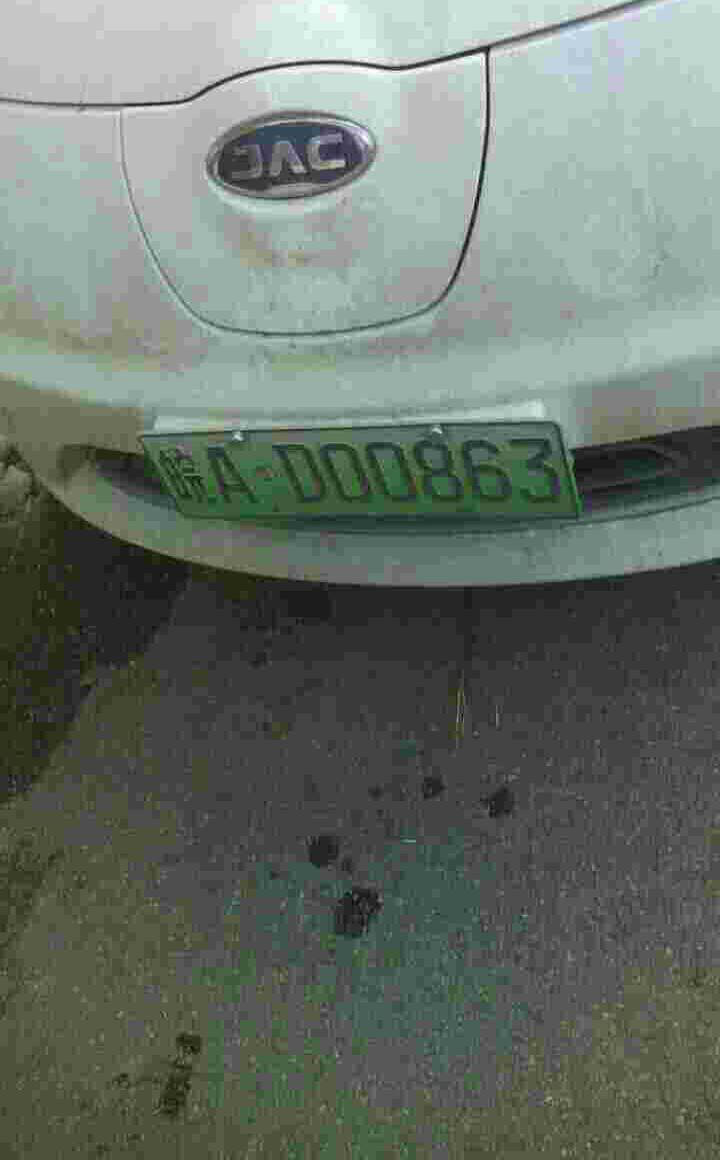car: (135, 432, 589, 522)
